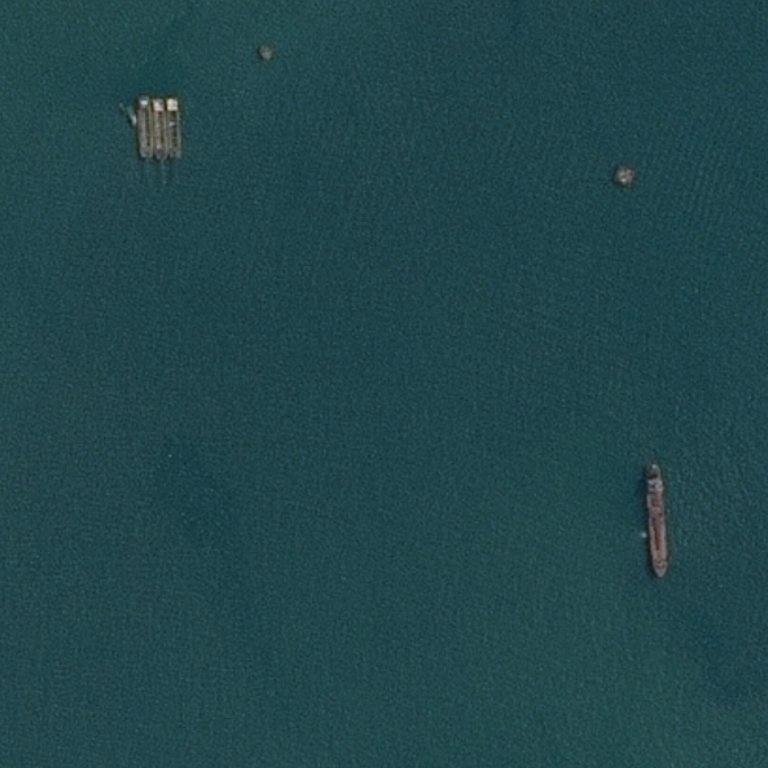ship: (644, 499, 671, 541), (171, 17, 179, 85), (65, 17, 72, 84), (158, 17, 163, 84), (656, 573, 665, 578), (143, 154, 150, 158), (657, 464, 661, 470), (646, 465, 650, 471), (153, 97, 157, 101), (158, 157, 163, 160), (139, 82, 142, 87), (172, 156, 178, 158), (148, 98, 152, 101), (134, 122, 136, 125), (0, 98, 1, 103), (1, 98, 2, 102), (133, 113, 135, 115), (130, 114, 131, 117), (163, 75, 163, 79), (56, 32, 56, 52)
